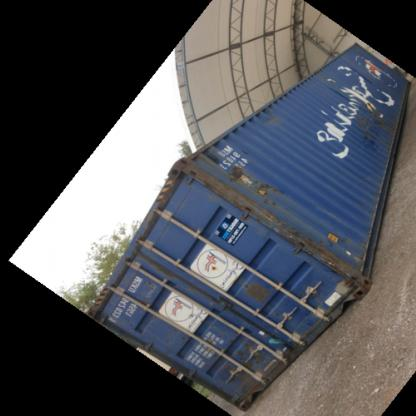Damage: (274, 225, 354, 279), (351, 102, 391, 150), (238, 274, 274, 307), (250, 176, 282, 206), (257, 106, 275, 132), (221, 158, 239, 182)
